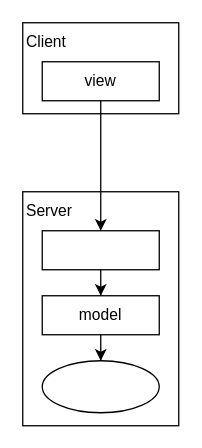
Image size: 202x448. Some labels were removed from this diagram. The centre of each missing label's shape, as x and y in pixels:
controller: the point at 100,249
database: the point at 100,386
